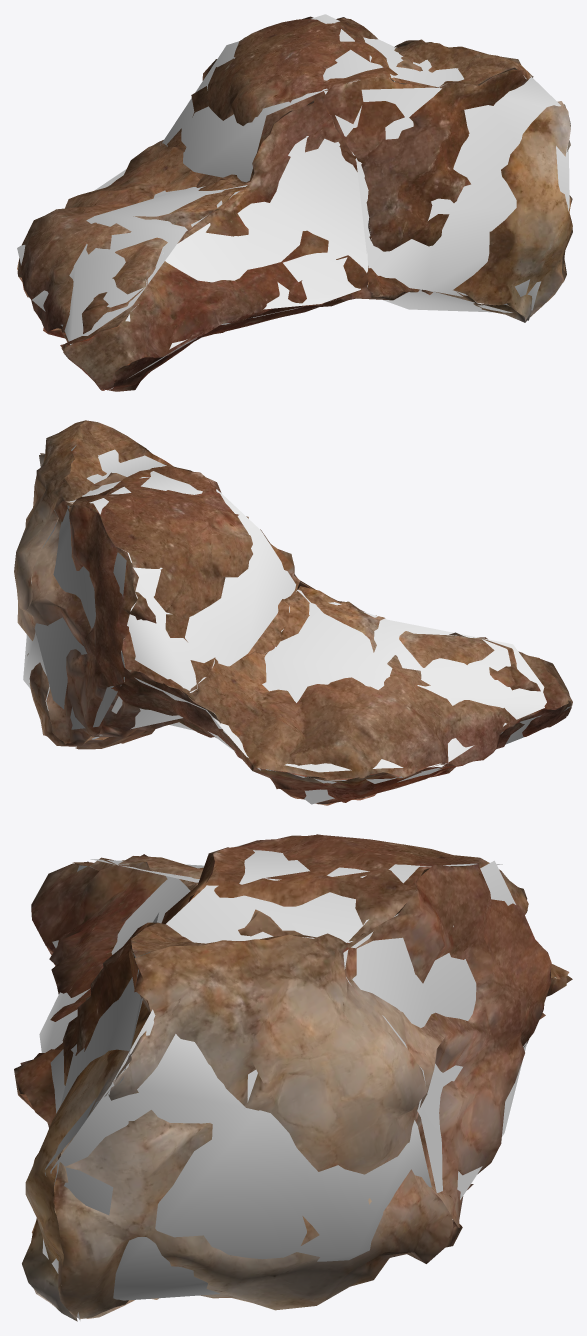
Rendered from ph_stone_01.glb.
3 views of the same model, one above another, from view 1: azimuth 30°, elevation 25°; view 2: azimuth 150°, elevation 25°; view 3: azimuth 270°, elevation 25° (orthographic). The views are drawn at different scales.
Parts seen in each view (by area): view 1: ph_stone_01, ph_stone_01_col; view 2: ph_stone_01, ph_stone_01_col; view 3: ph_stone_01, ph_stone_01_col.
Part boxes in pixels (x1=…): ph_stone_01: x1=17, y1=16, x2=572, y2=391; ph_stone_01_col: x1=17, y1=14, x2=569, y2=389; ph_stone_01: x1=14, y1=420, x2=572, y2=805; ph_stone_01_col: x1=23, y1=445, x2=570, y2=804; ph_stone_01: x1=14, y1=834, x2=572, y2=1321; ph_stone_01_col: x1=39, y1=844, x2=556, y2=1320.
Size of the model in its own units: 0.1473 by 0.0736 by 0.0899.
1 material, 1 textured.
